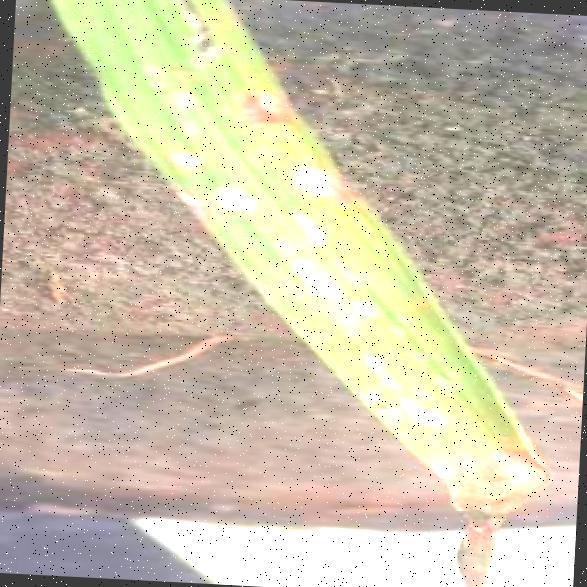Leaf_smut: (222, 66, 296, 140), (286, 149, 374, 208), (200, 169, 282, 230), (145, 125, 204, 181)
